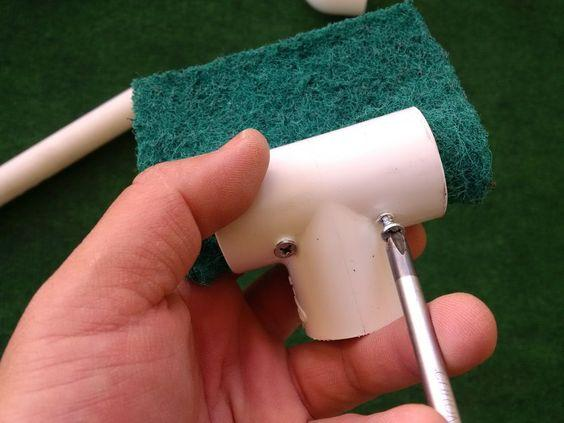PVC: (211, 109, 442, 341)
